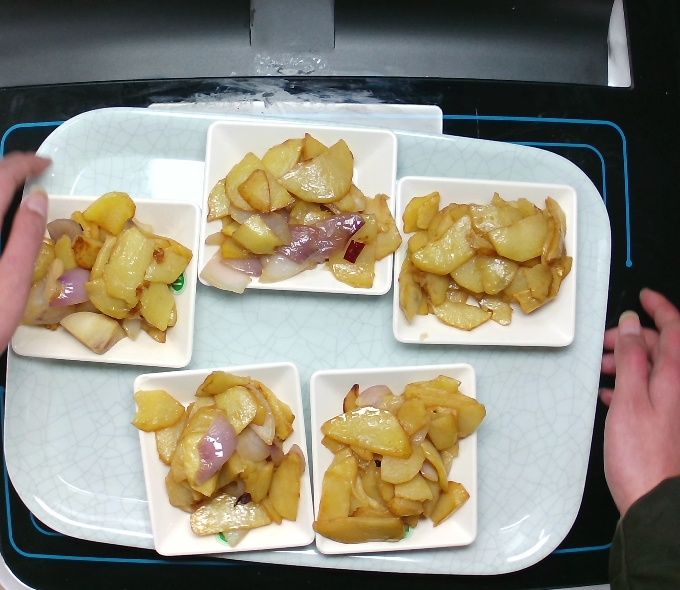wcq-TuDouPian: (199, 131, 399, 292), (13, 195, 193, 356), (142, 373, 303, 547), (314, 374, 475, 548), (397, 188, 578, 332)
